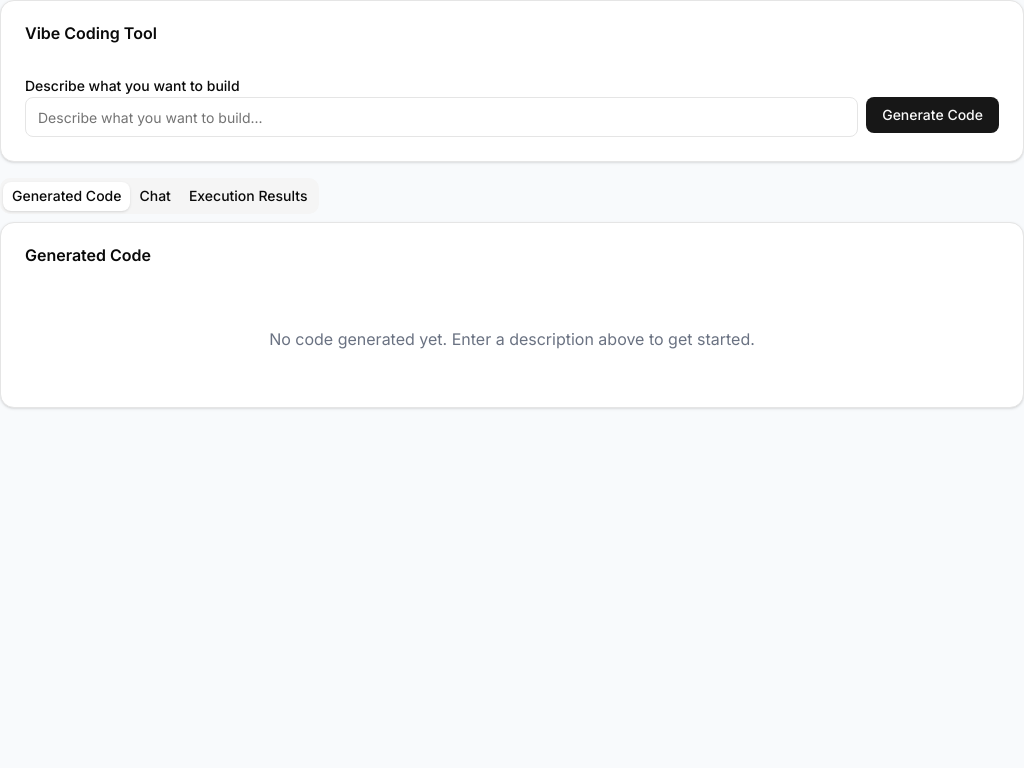
Scenario: VibeCodingTool › Code Execution › should execute generated code in sandbox
In the field with placeholder "Describe what you want to build...": {"x": 442, "y": 117} [25,97,858,137], type "Print hello world"
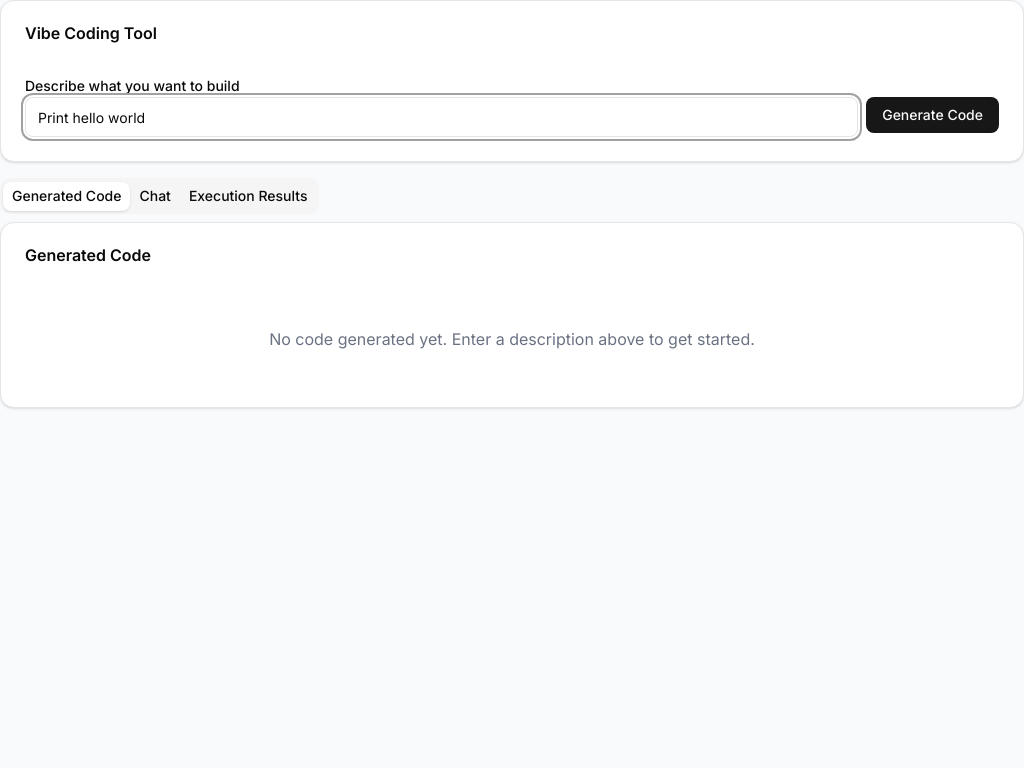
Click the button "Generate Code": {"x": 933, "y": 115} [866,97,999,133]
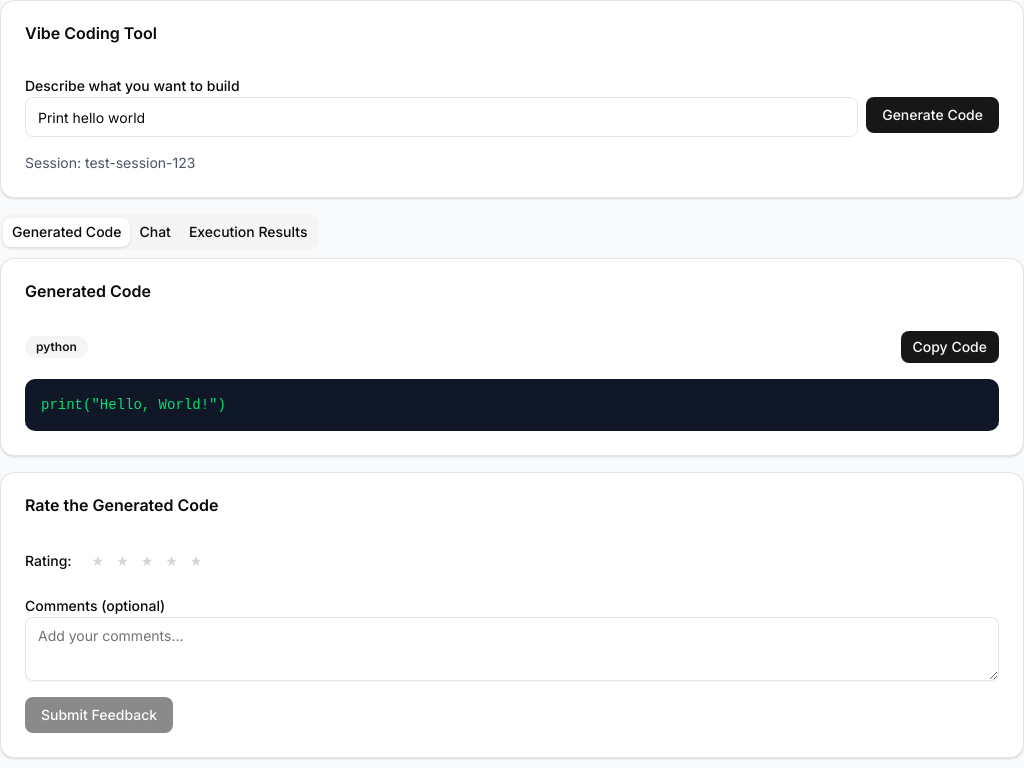
Note: Click on the results tab to see execution results
Click the tab "Execution Results": {"x": 248, "y": 232} [180,218,316,246]
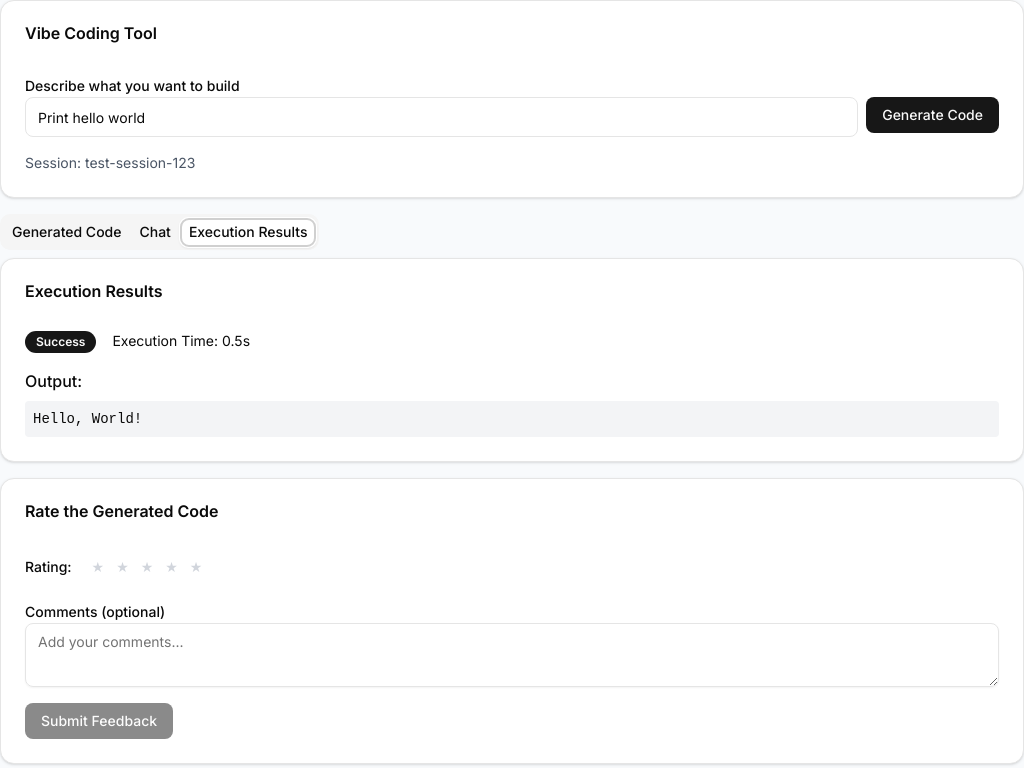
Now the text "Hello, World!" is shown, box [25,401,999,437]
Now the text "Execution Time: 0.5s" is shown, box [112,331,250,353]
